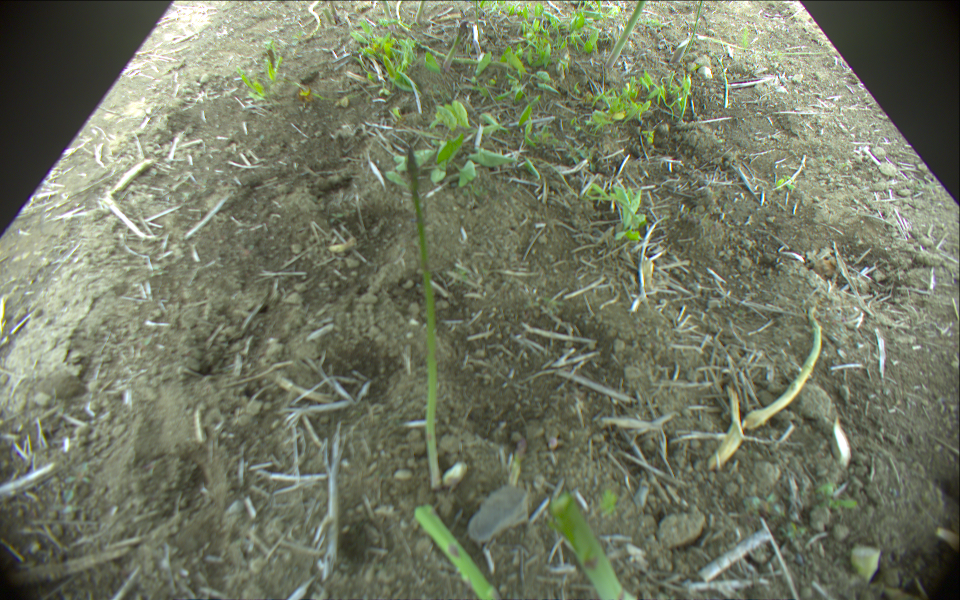aspa: (404, 146, 441, 489), (549, 489, 636, 600), (410, 501, 499, 600), (604, 1, 646, 69), (423, 43, 510, 69), (442, 22, 467, 70), (713, 53, 732, 111), (685, 1, 702, 53), (308, 1, 323, 40), (378, 1, 394, 33), (414, 1, 423, 24), (331, 1, 339, 25), (380, 1, 391, 18), (394, 1, 402, 22)
